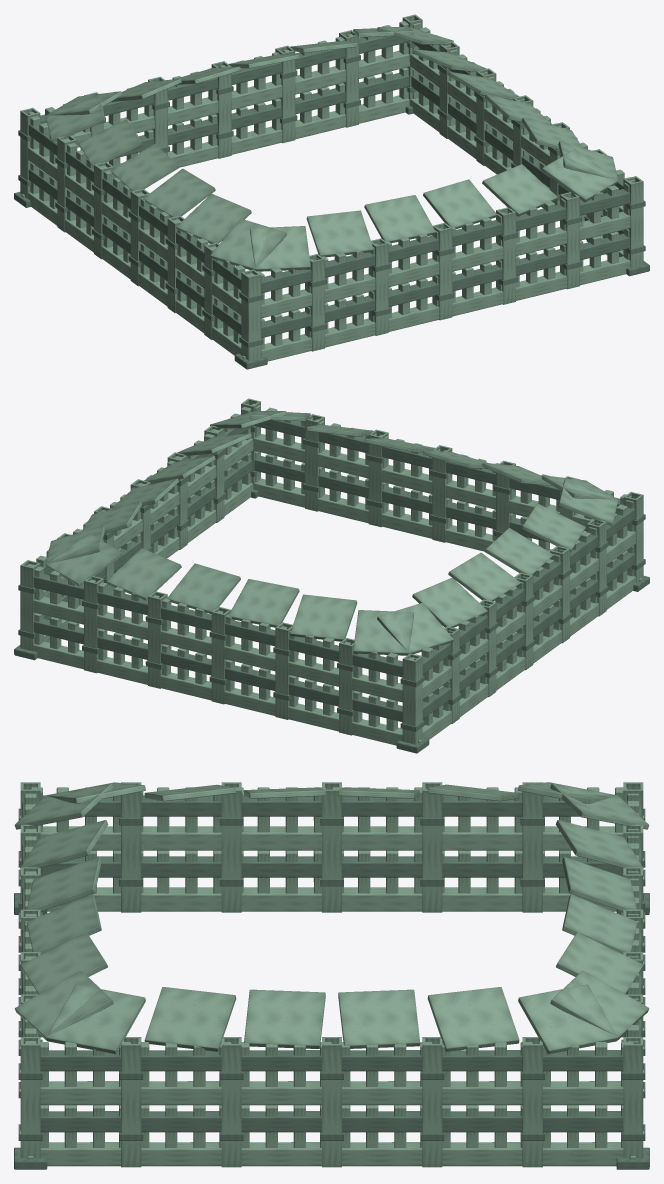
3 renders of one model, top to bottom at view 1: azimuth 30°, elevation 25°; view 2: azimuth 150°, elevation 25°; view 3: azimuth 270°, elevation 25°, orthographic. The views are drawn at different scales.
Parts seen in each view (by area): view 1: Crown alloy petal 0-1, Crown alloy petal 0-2, Crown alloy petal 0-3, Crown alloy petal 0-4, Crown alloy petal 3-4, Crown alloy petal 0-0, Crown alloy petal 3-3, Crown alloy petal 3-5, Crown alloy petal 0-5, Crown alloy petal 3-2, Crown alloy petal 3-1, Tier 0 side 0 post 0 (+71 smaller); view 2: Crown alloy petal 2-4, Crown alloy petal 2-3, Crown alloy petal 2-2, Crown alloy petal 2-1, Crown alloy petal 3-1, Crown alloy petal 2-5, Crown alloy petal 3-2, Crown alloy petal 3-0, Crown alloy petal 2-0, Crown alloy petal 3-3, Crown alloy petal 3-4, Tier 0 side 3 post 0 (+71 smaller); view 3: Crown alloy petal 1-4, Crown alloy petal 1-1, Crown alloy petal 1-3, Crown alloy petal 1-2, Crown alloy petal 1-5, Crown alloy petal 1-0, Crown alloy petal 0-5, Crown alloy petal 2-0, Crown alloy petal 2-1, Crown alloy petal 0-4, Crown alloy petal 2-2, Crown alloy petal 0-3 (+70 smaller).
Part boxes in pixels (<box>): Crown alloy petal 0-1: <box>306,210,373,257</box>; Crown alloy petal 0-2: <box>364,195,435,242</box>; Crown alloy petal 0-3: <box>423,179,497,229</box>; Crown alloy petal 0-4: <box>482,164,557,216</box>; Crown alloy petal 3-4: <box>176,193,251,243</box>; Crown alloy petal 0-0: <box>250,226,310,271</box>; Crown alloy petal 3-3: <box>143,168,215,217</box>; Crown alloy petal 3-5: <box>210,218,286,270</box>; Crown alloy petal 0-5: <box>541,149,617,202</box>; Crown alloy petal 3-2: <box>110,144,178,191</box>; Crown alloy petal 3-1: <box>78,119,142,168</box>; Tier 0 side 0 post 0: <box>241,269,261,360</box>; Crown alloy petal 2-4: <box>290,594,357,641</box>; Crown alloy petal 2-3: <box>228,579,299,627</box>; Crown alloy petal 2-2: <box>167,563,240,614</box>; Crown alloy petal 2-1: <box>106,548,181,600</box>; Crown alloy petal 3-1: <box>412,577,487,627</box>; Crown alloy petal 2-5: <box>353,610,413,655</box>; Crown alloy petal 3-2: <box>448,552,520,601</box>; Crown alloy petal 3-0: <box>377,602,453,654</box>; Crown alloy petal 2-0: <box>46,533,122,586</box>; Crown alloy petal 3-3: <box>484,527,553,574</box>; Crown alloy petal 3-4: <box>521,503,585,552</box>; Tier 0 side 3 post 0: <box>402,653,422,744</box>; Crown alloy petal 1-4: <box>427,987,519,1051</box>; Crown alloy petal 1-1: <box>144,987,236,1051</box>; Crown alloy petal 1-3: <box>338,989,420,1048</box>; Crown alloy petal 1-2: <box>244,989,325,1048</box>; Crown alloy petal 1-5: <box>518,984,617,1054</box>; Crown alloy petal 1-0: <box>46,984,145,1054</box>; Crown alloy petal 0-5: <box>14,970,113,1040</box>; Crown alloy petal 2-0: <box>550,970,649,1040</box>; Crown alloy petal 2-1: <box>556,932,643,994</box>; Crown alloy petal 0-4: <box>20,932,107,994</box>; Crown alloy petal 2-2: <box>562,894,637,954</box>; Crown alloy petal 0-3: <box>26,894,101,954</box>.
Bounding box in the file's own units: 2.85 × 0.7144 × 2.85.
2 materials, 2 textured.
